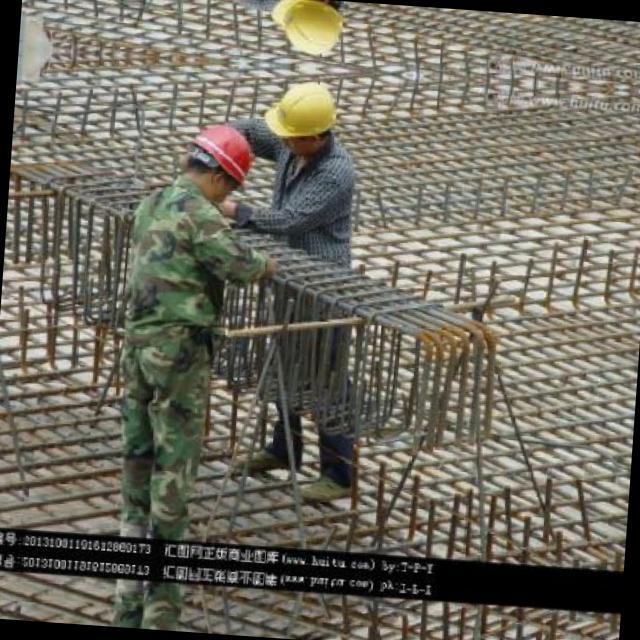helmet: (172, 113, 262, 210), (256, 73, 347, 160), (262, 0, 354, 59)
